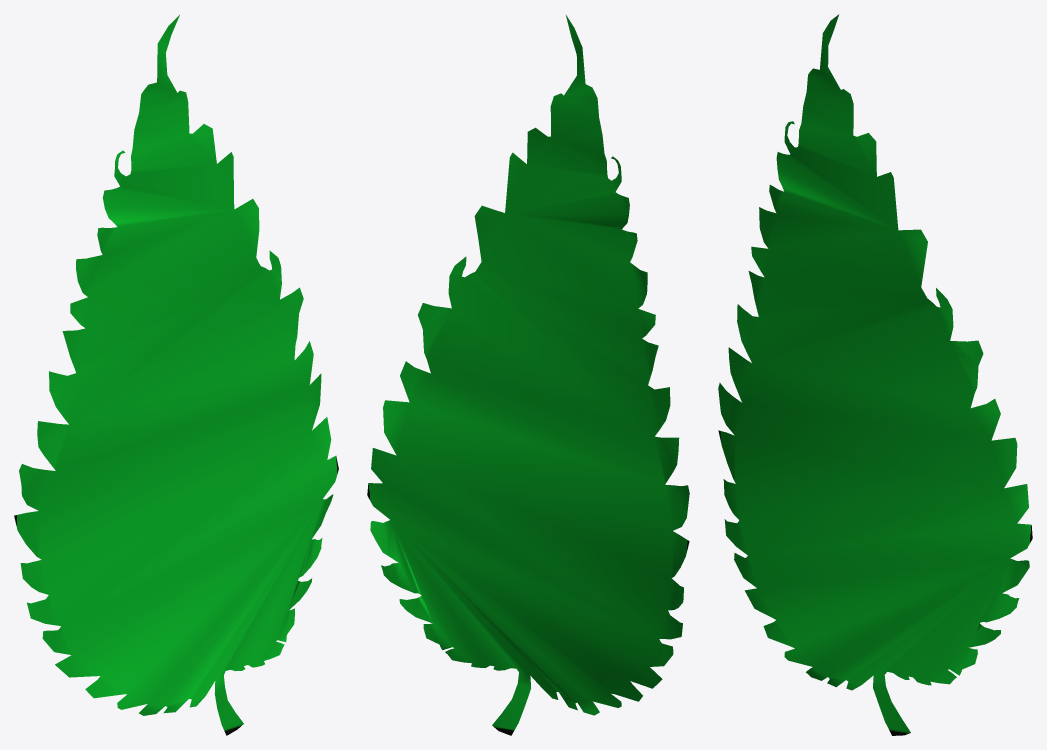
Rendered from WaxWorld_Leaf_1.fbx.
The picture shows the model from 3 angles, left to right: view 1: azimuth 30°, elevation 25°; view 2: azimuth 150°, elevation 25°; view 3: azimuth 330°, elevation 25°; orthographic projection. The views are drawn at different scales.
Parts seen in each view (by area): view 1: Line001; view 2: Line001; view 3: Line001.
Part boxes in pixels (bbox=[...]): Line001: bbox=[14, 15, 338, 735]; Line001: bbox=[367, 14, 689, 735]; Line001: bbox=[718, 14, 1032, 735].
Size of the model in its own units: 92.39 by 200 by 12.41.
1 material, 1 textured.
